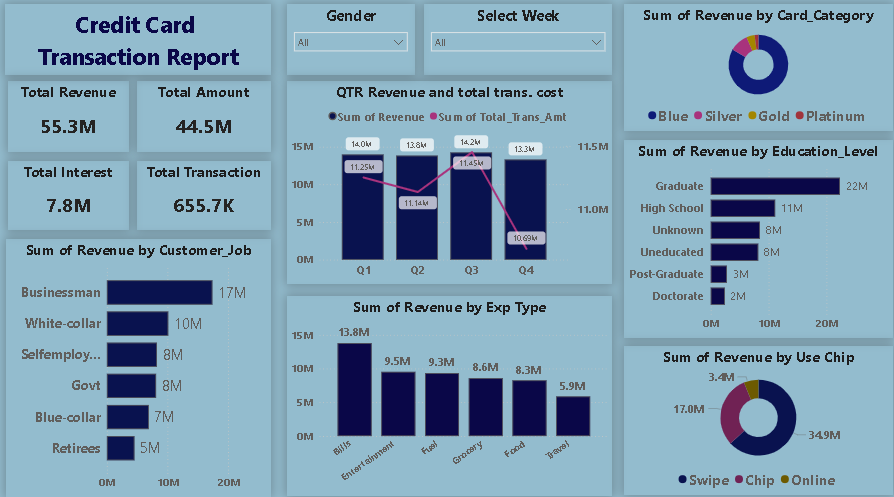

The page's visual inventory and layout, read from the dashboard file:
{"tool":"powerbi","page":{"name":"Page 1","canvas":[1280,720],"ordinal":0},"visuals":[{"type":"lineStackedColumnComboChart","title":"QTR Revenue and total trans. cost","fields":{"Category":["credit_card.Qtr"],"Y":["Sum(credit_card.Revenue)"],"Y2":["Sum(credit_card.Total_Trans_Amt)"]},"box":[409.5,122.7,460.9,288.2],"z":0},{"type":"textbox","box":[9.9,14.2,377,100.6],"z":1000},{"type":"columnChart","fields":{"Category":["credit_card.Exp Type"],"Y":["Sum(credit_card.Revenue)"]},"box":[409.5,428.1,460.9,282.5],"z":2000},{"type":"barChart","fields":{"Y":["Sum(credit_card.Revenue)"],"Category":["customer.Customer_Job"]},"box":[11.4,346.8,375.3,365.3],"z":3000},{"type":"barChart","fields":{"Y":["Sum(credit_card.Revenue)"],"Category":["customer.Education_Level"]},"box":[887.6,206.9,381,279.7],"z":4000},{"type":"donutChart","fields":{"Category":["credit_card.Card_Category"],"Y":["Sum(credit_card.Revenue)"]},"box":[887.6,14.3,381,179.8],"z":5000},{"type":"pieChart","fields":{"Y":["Sum(credit_card.Revenue)"],"Category":["credit_card.Use Chip"]},"box":[887.6,499.4,381,211.2],"z":6000},{"type":"card","title":"Total Revenue","fields":{"Values":["Sum(credit_card.Revenue)"]},"box":[14.3,122.7,171.2,99.9],"z":7000},{"type":"card","title":"Total Amount","fields":{"Values":["Sum(credit_card.Total_Trans_Amt)"]},"box":[196.9,122.7,189.8,99.9],"z":8000},{"type":"card","title":"Total Interest","fields":{"Values":["Sum(credit_card.Interest_Earned)"]},"box":[14.3,236.9,171.2,98.5],"z":9000},{"type":"card","title":"Total Transaction","fields":{"Values":["Sum(credit_card.Total_Trans_Vol)"]},"box":[196.9,236.9,189.8,98.5],"z":10000},{"type":"slicer","title":"Select Week","fields":{"Values":["credit_card.Week_Start_Date"]},"box":[603.6,14.3,266.8,99.9],"z":11000},{"type":"slicer","title":"Gender","fields":{"Values":["customer.Gender"]},"box":[409.5,14.3,181.2,101.3],"z":12000}]}

Visuals, with their boxes in screenshot pixels (x1, y1, x2, y2), scaled from the page's 1280x720 canvas onto the 894x497 screenshot:
"QTR Revenue and total trans. cost" lineStackedColumnComboChart: bbox=(286, 85, 608, 284)
textbox: bbox=(7, 10, 270, 79)
columnChart - credit_card.Exp Type x Sum(credit_card.Revenue): bbox=(286, 296, 608, 491)
barChart - Sum(credit_card.Revenue) x customer.Customer_Job: bbox=(8, 239, 270, 492)
barChart - Sum(credit_card.Revenue) x customer.Education_Level: bbox=(620, 143, 886, 336)
donutChart - credit_card.Card_Category x Sum(credit_card.Revenue): bbox=(620, 10, 886, 134)
pieChart - Sum(credit_card.Revenue) x credit_card.Use Chip: bbox=(620, 345, 886, 491)
"Total Revenue" card: bbox=(10, 85, 130, 154)
"Total Amount" card: bbox=(138, 85, 270, 154)
"Total Interest" card: bbox=(10, 164, 130, 232)
"Total Transaction" card: bbox=(138, 164, 270, 232)
"Select Week" slicer: bbox=(422, 10, 608, 79)
"Gender" slicer: bbox=(286, 10, 413, 80)
